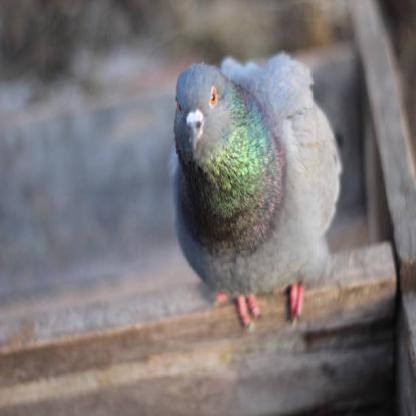Flying Rat: (154, 61, 353, 318)
